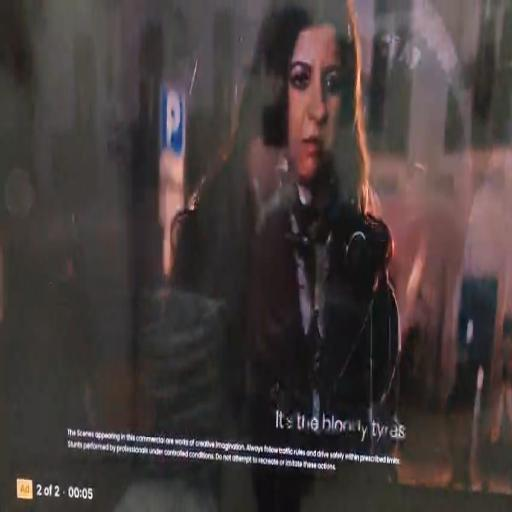ad label: (16, 477, 34, 502)
